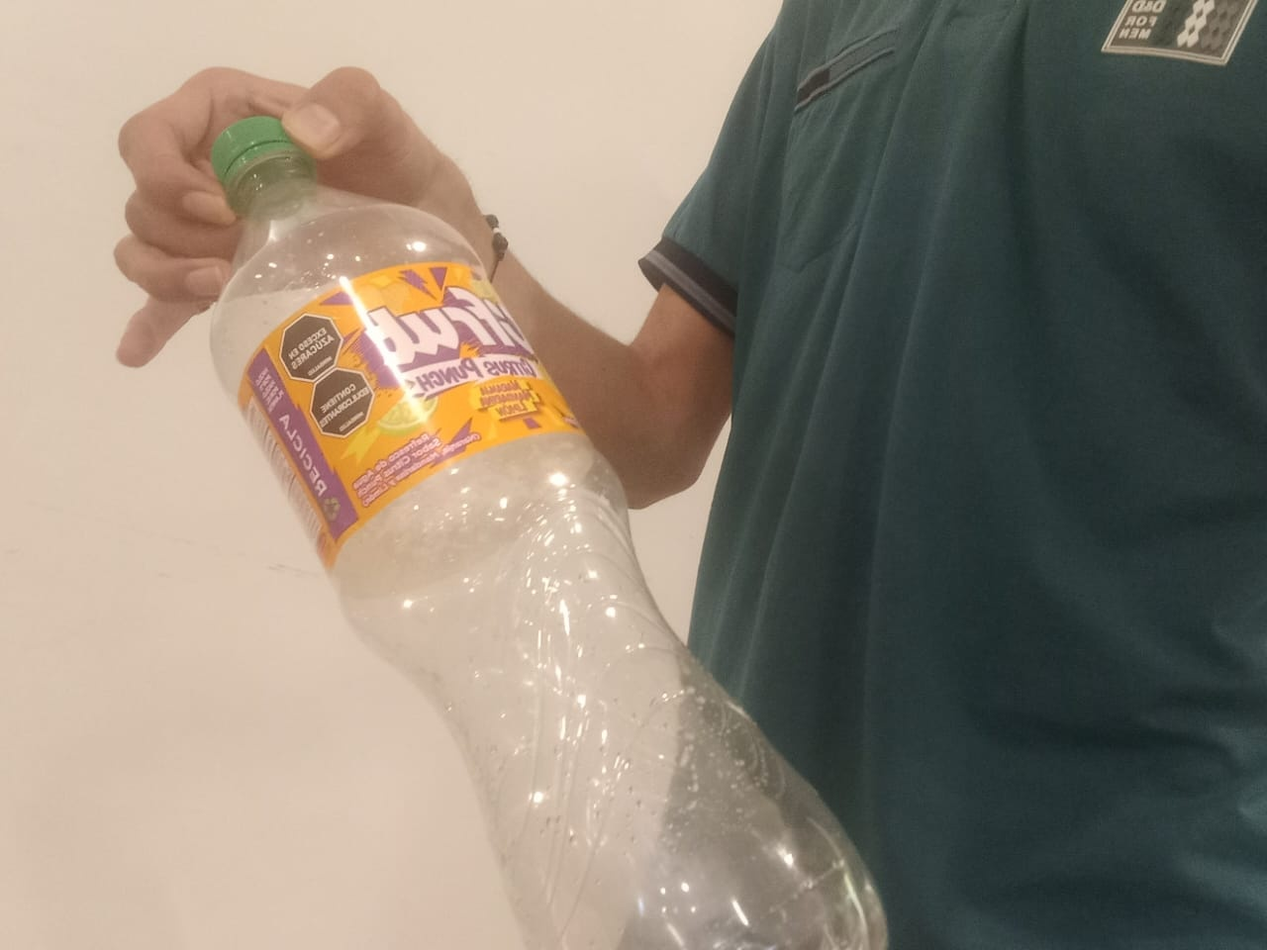Plastico: (211, 118, 885, 947)
